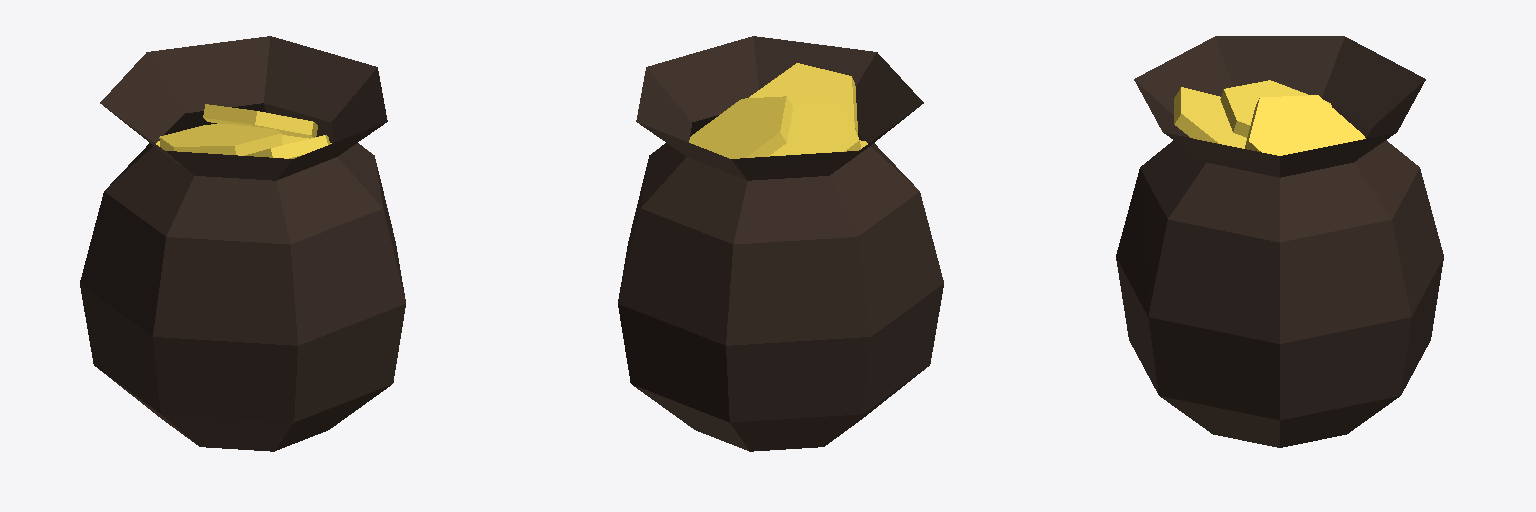
3 renders of one model, left to right at view 1: azimuth 30°, elevation 25°; view 2: azimuth 150°, elevation 25°; view 3: azimuth 270°, elevation 25°, orthographic.
Visible parts, largest first — view 1: sphere, cylinder; view 2: sphere, cylinder; view 3: sphere, cylinder.
Part boxes in pixels (bbox=[...]): sphere: bbox=[80, 36, 405, 451]; cylinder: bbox=[159, 104, 329, 158]; sphere: bbox=[618, 36, 943, 451]; cylinder: bbox=[689, 63, 860, 158]; sphere: bbox=[1116, 36, 1443, 447]; cylinder: bbox=[1174, 80, 1364, 155].
Bounding box in the file's own units: 0.3564 × 0.388 × 0.3625.
1 materials, 1 textured.